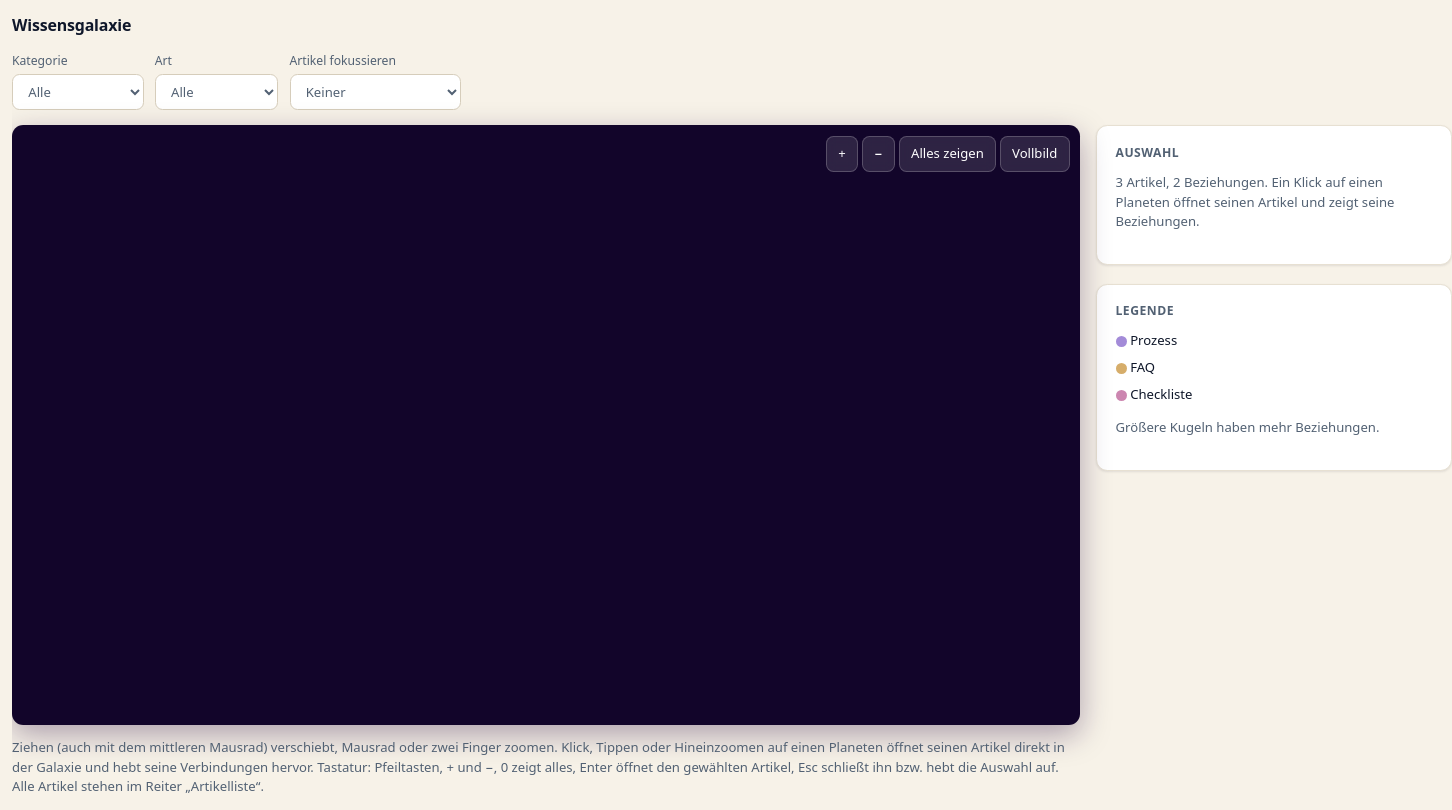
it: KnowledgeGalaxy › navigates along relations without a mouse and has no separate list view
Select "Störungen melden" in the dropdown labelled "Artikel fokussieren": (375, 92) [290,74,461,110]
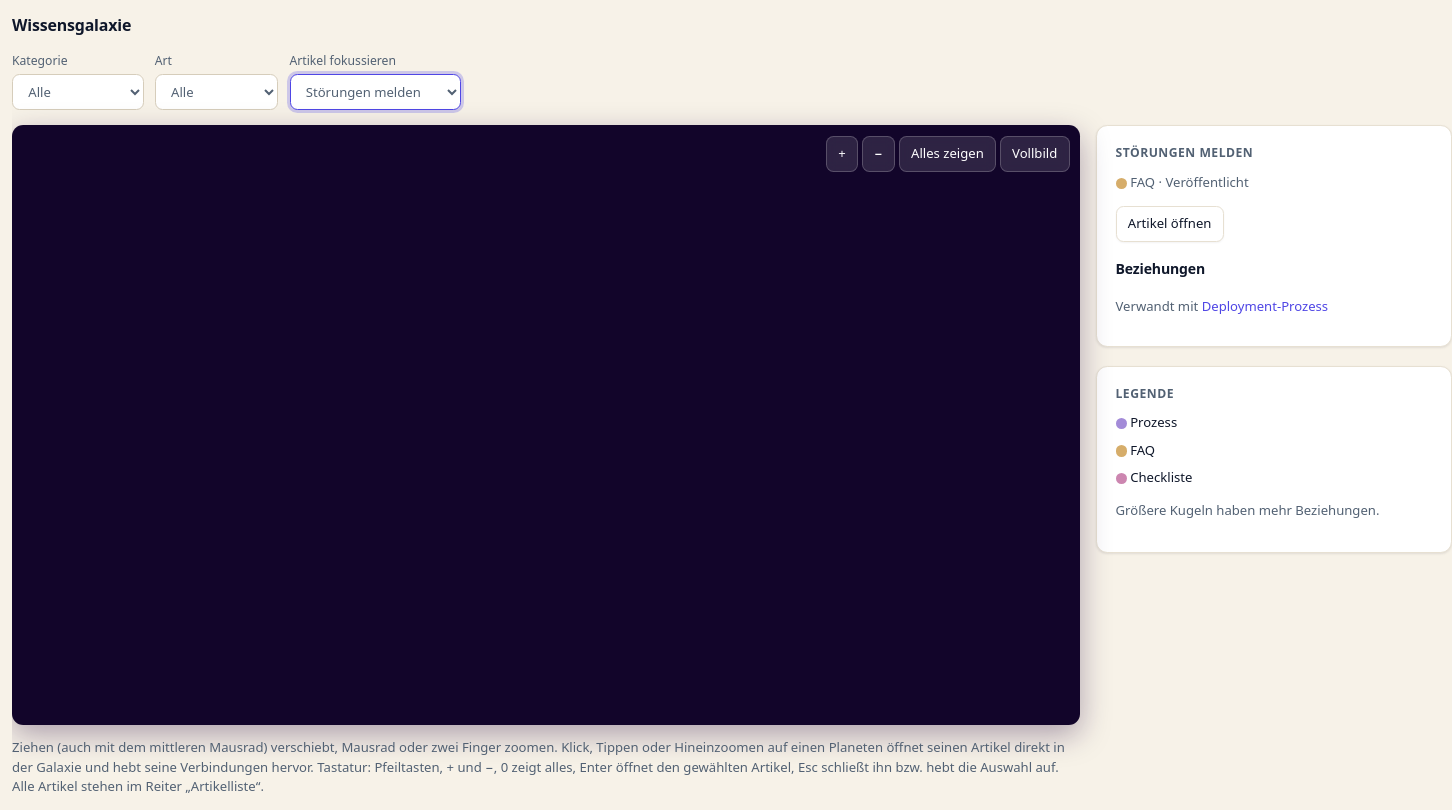
Expected: the text "Verwandt mit" is shown, [1116,297,1198,315]
Click the button "Deployment-Prozess": click(1265, 307) [1202,297,1328,316]
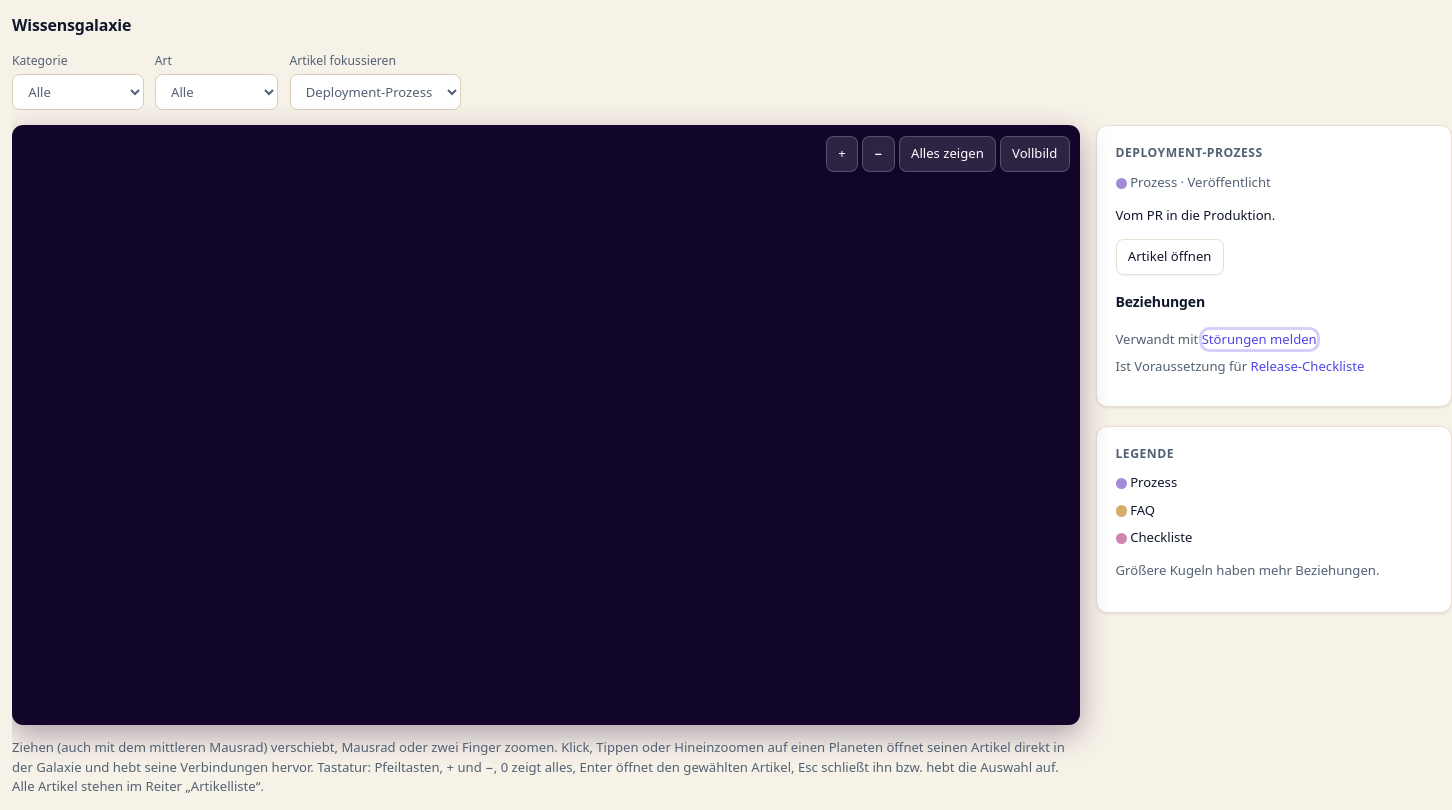
Expected: the text "Vom PR in die Produktion." is shown, [1116,206,1275,224]
Expected: the text "Ist Voraussetzung für" is shown, [1116,357,1247,375]
